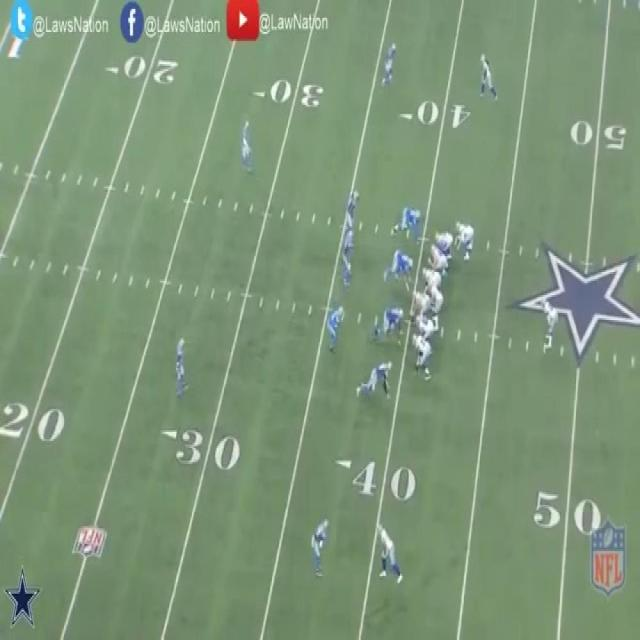center: (414, 292, 427, 314)
db: (175, 336, 186, 390), (240, 120, 252, 168), (384, 42, 396, 82)
lb: (329, 304, 344, 346), (345, 191, 358, 221), (343, 232, 351, 276)
qb: (429, 279, 444, 325)
